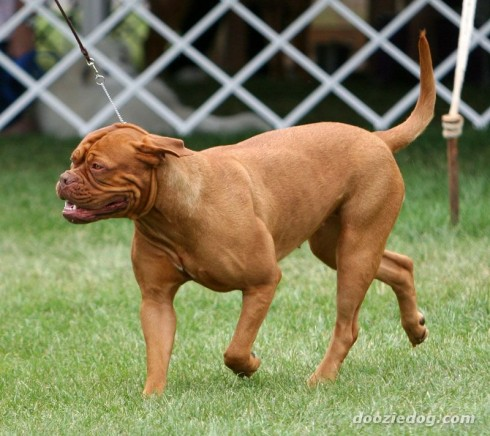dogue_de_bordeaux: (54, 29, 436, 400)
